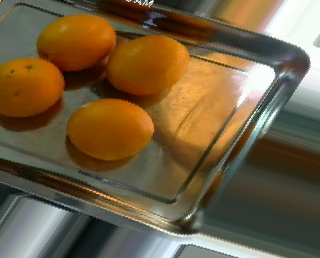Orange: (67, 97, 154, 160), (108, 34, 188, 95), (37, 13, 117, 71), (0, 56, 63, 116)
